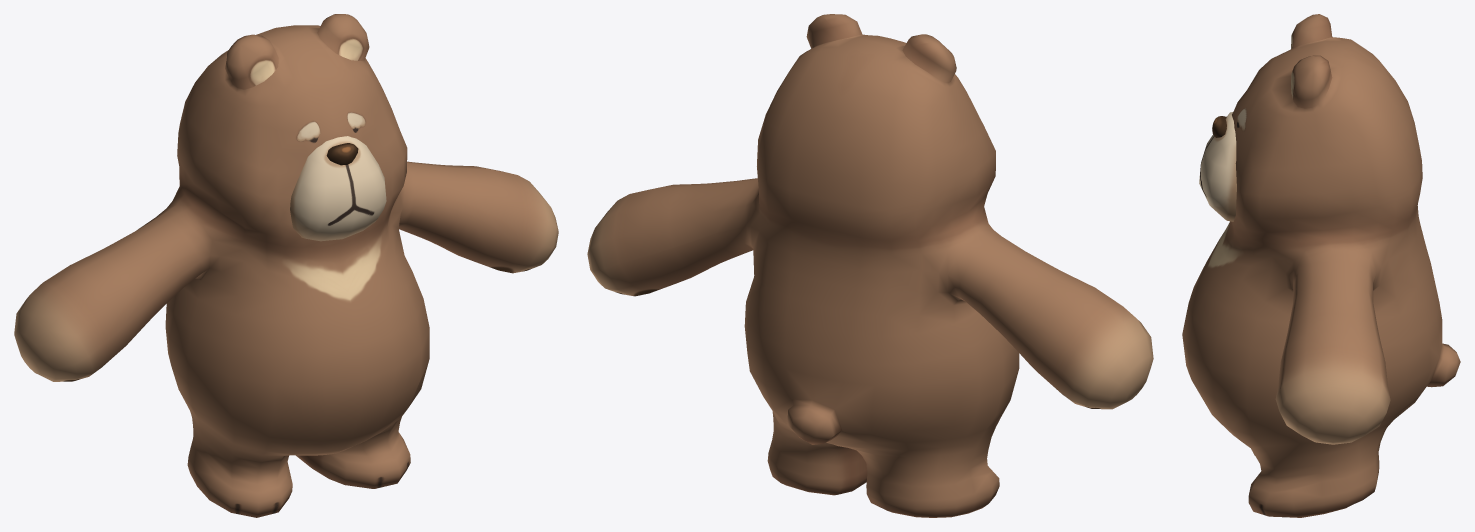
File: bear.fbx
3 renders of one model, left to right at view 1: azimuth 30°, elevation 25°; view 2: azimuth 150°, elevation 25°; view 3: azimuth 270°, elevation 25°, orthographic. The views are drawn at different scales.
Visible parts, largest first — view 1: bear; view 2: bear; view 3: bear.
Part boxes in pixels (x1,y1,x2,y2): bear: [14, 14, 558, 517]; bear: [587, 14, 1153, 517]; bear: [1182, 14, 1460, 517].
Bounding box in the file's own units: 212 × 176 × 100.
